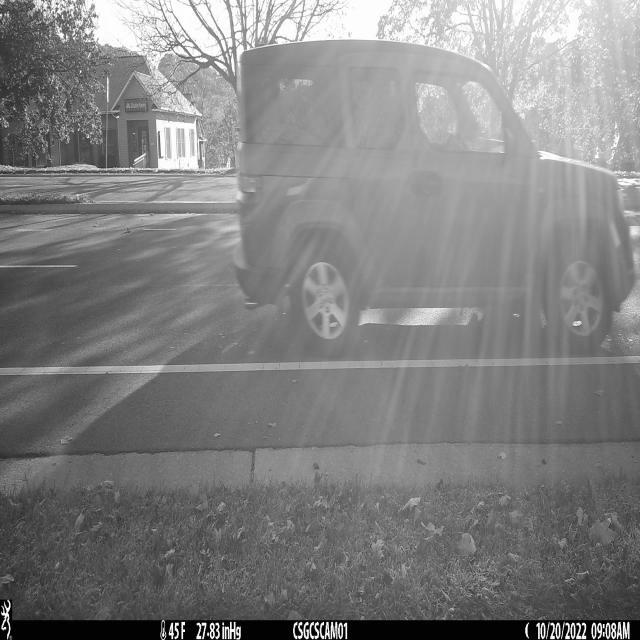SUV: (234, 40, 636, 359)
